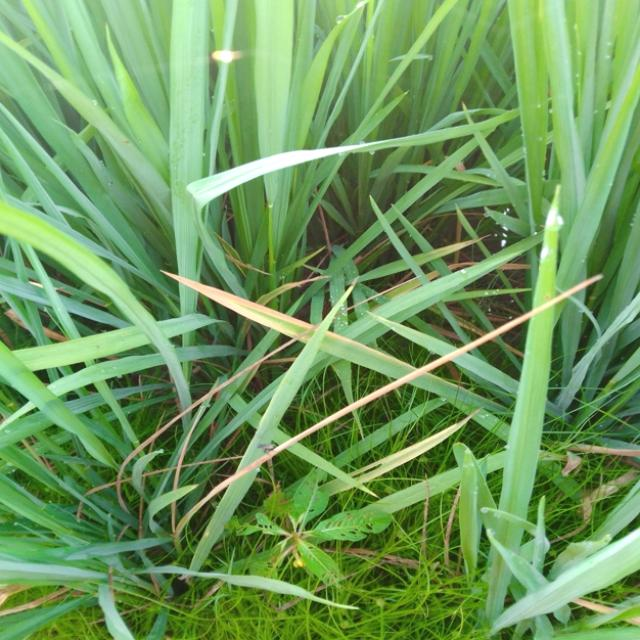Hawar Daun Bakteri: (154, 259, 376, 370)
